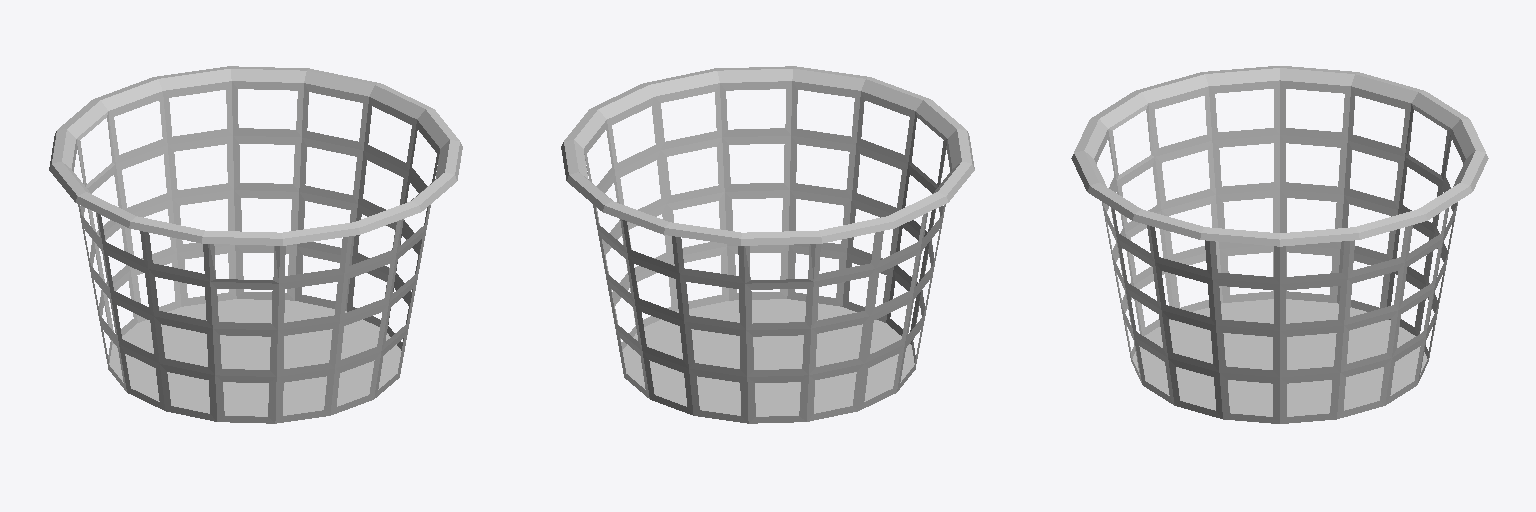
File: Basket-lo.obj
3 views of the same model, side by side, from view 1: azimuth 30°, elevation 25°; view 2: azimuth 150°, elevation 25°; view 3: azimuth 270°, elevation 25° (orthographic).
Visible parts, largest first — view 1: lo_bskt; view 2: lo_bskt; view 3: lo_bskt.
Part boxes in pixels (x1,y1,x2,y2): lo_bskt: (49, 66, 462, 423); lo_bskt: (561, 66, 974, 423); lo_bskt: (1071, 66, 1488, 423).
Bounding box in the file's own units: 4.42 × 2.46 × 4.42.